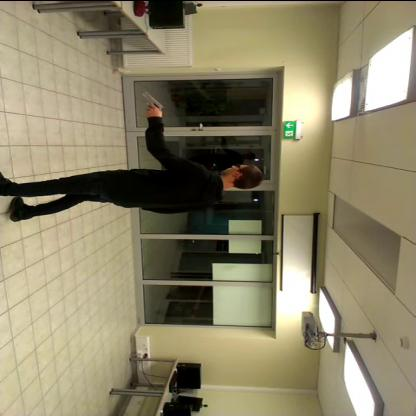Pistol: (127, 84, 170, 112)
